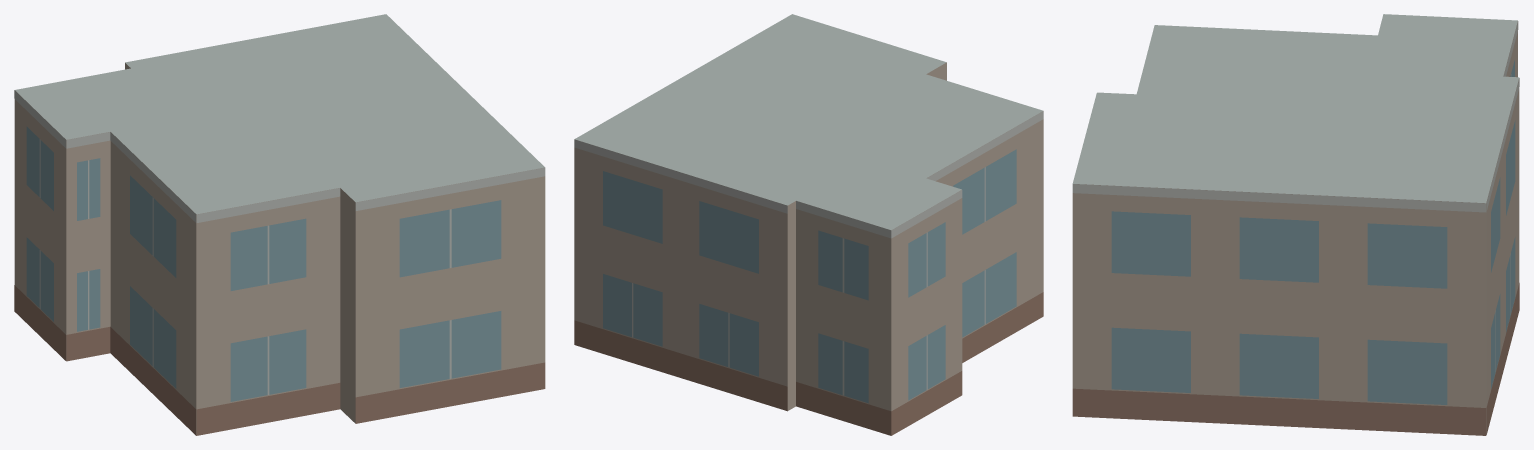
The model's file is survey-upis-32929226.glb.
3 views of the same model, side by side, from view 1: azimuth 30°, elevation 25°; view 2: azimuth 150°, elevation 25°; view 3: azimuth 270°, elevation 25° (orthographic). The views are drawn at different scales.
Visible parts, largest first — view 1: survey-upis-32929226.tmp; view 2: survey-upis-32929226.tmp; view 3: survey-upis-32929226.tmp.
Part boxes in pixels (bbox=[...]): survey-upis-32929226.tmp: bbox=[14, 14, 545, 435]; survey-upis-32929226.tmp: bbox=[574, 14, 1043, 435]; survey-upis-32929226.tmp: bbox=[1072, 14, 1519, 435].
Bounding box in the file's own units: 10.65 × 6.1 × 10.63.
